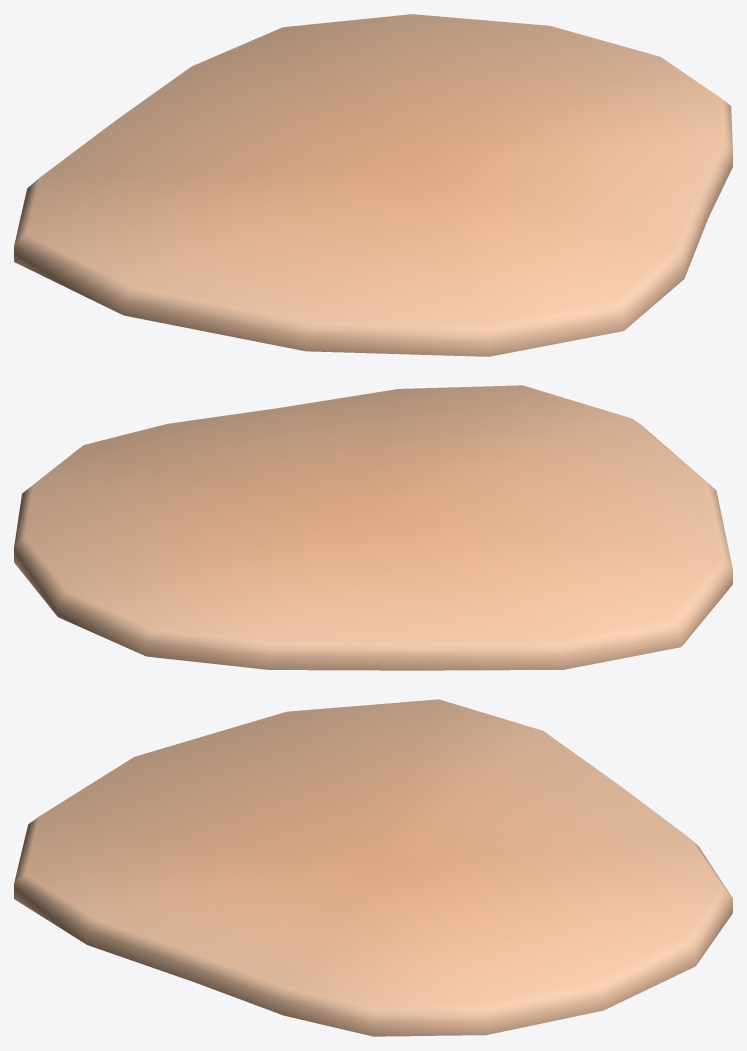
The model's file is dough-rolled-a.glb.
3 renders of one model, top to bottom at view 1: azimuth 30°, elevation 25°; view 2: azimuth 150°, elevation 25°; view 3: azimuth 270°, elevation 25°, orthographic. The views are drawn at different scales.
Visible parts, largest first — view 1: dough_rolled_A; view 2: dough_rolled_A; view 3: dough_rolled_A.
Boxes of the visible parts, left/top/right/bottom form: dough_rolled_A: left=14, top=14, right=732, bottom=356; dough_rolled_A: left=14, top=385, right=732, bottom=670; dough_rolled_A: left=14, top=699, right=732, bottom=1036.
Size of the model in its own units: 1.38 by 0.05 by 1.32.
1 material, 1 textured.
